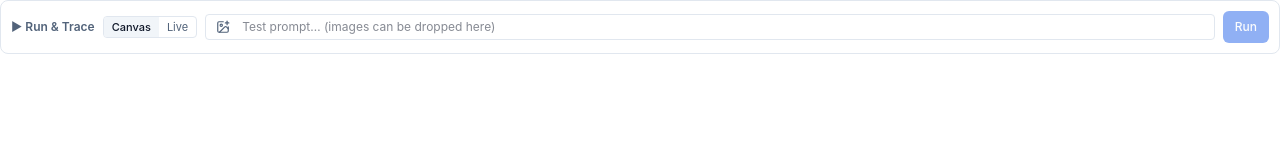
Test: FlowRunDrawer › runs the canvas under the throwaway model the runtime returns
Type "hi" into the field labelled "Test prompt".
click(723, 27); type("hi")  # box [238,15,1208,39]
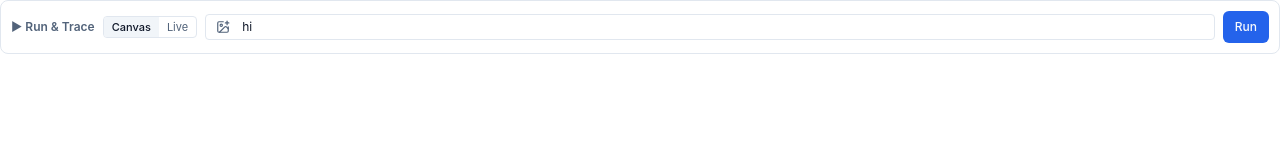
Click the button "Run".
click(1246, 27)  # box [1223,11,1269,43]
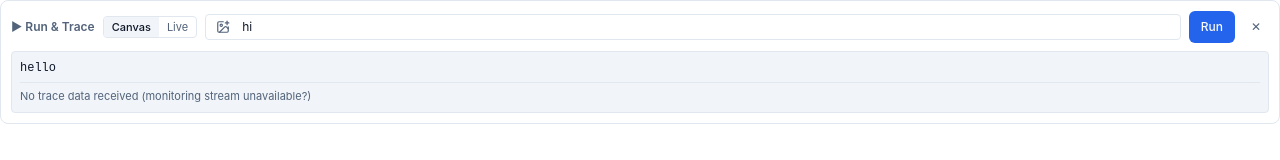
Result: the text "hello" is shown at [20,61,56,75]
